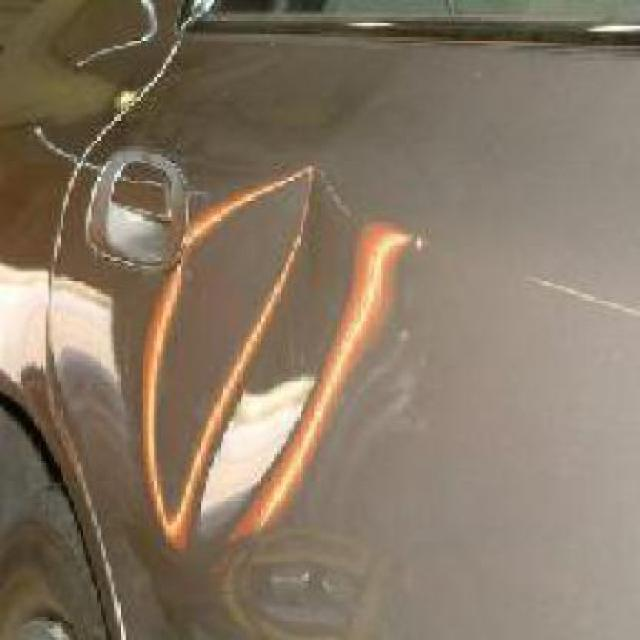dent-or-scratch: (144, 156, 398, 553)
